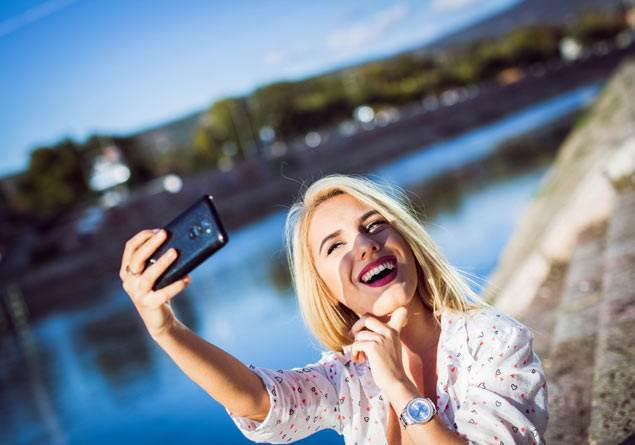face: (306, 194, 418, 317)
